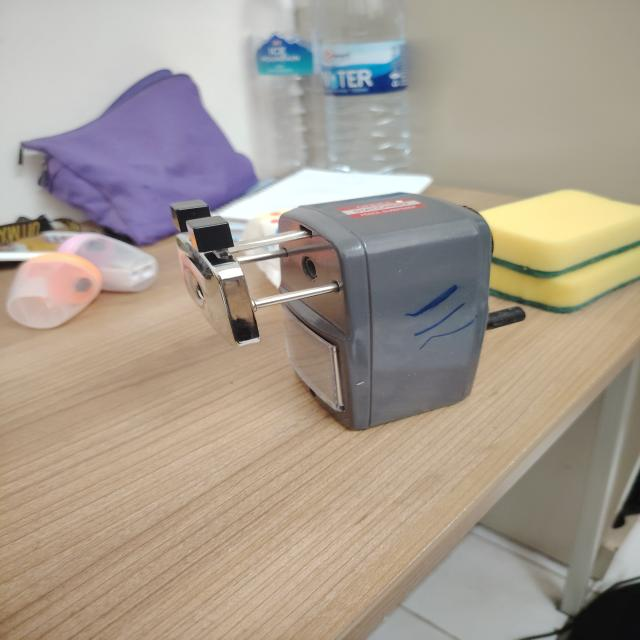sharpener: (171, 193, 525, 430), (6, 252, 102, 328), (59, 233, 158, 292)
